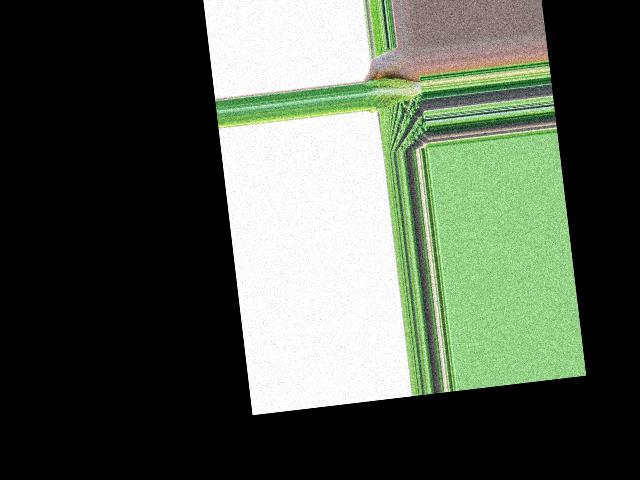lettuce: (363, 74, 424, 111)
